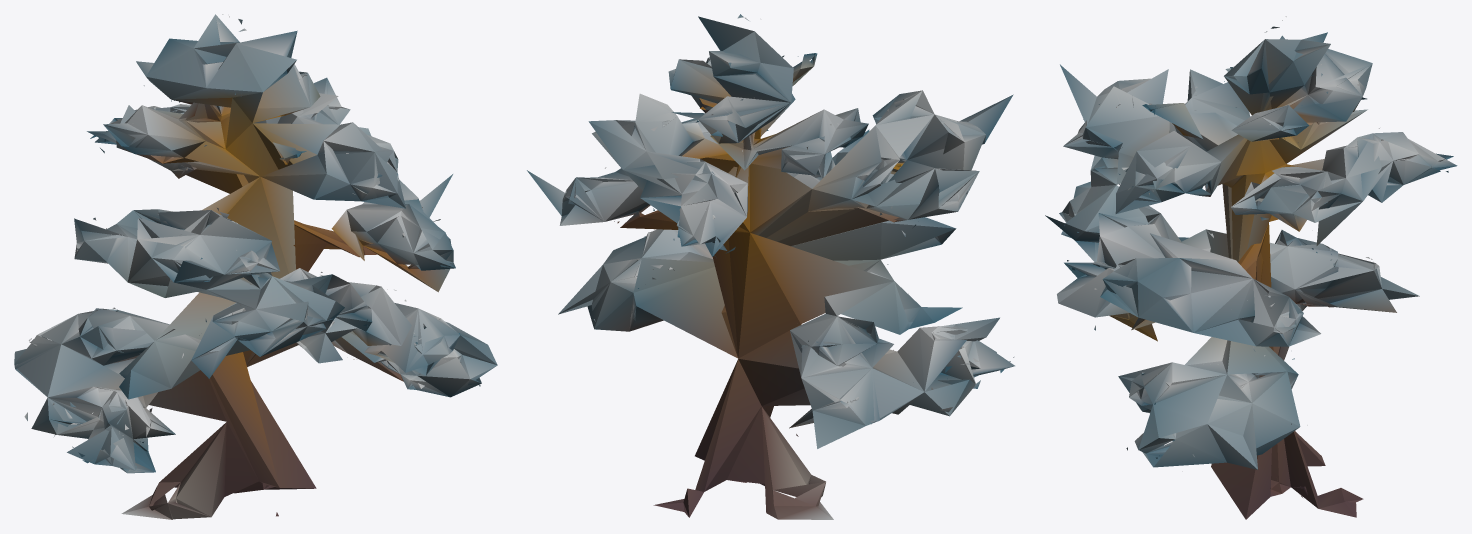
The model's file is pine_lod.glb.
3 views of the same model, side by side, from view 1: azimuth 30°, elevation 25°; view 2: azimuth 150°, elevation 25°; view 3: azimuth 270°, elevation 25° (orthographic).
Parts seen in each view (by area): view 1: pine_lod; view 2: pine_lod; view 3: pine_lod.
Boxes of the visible parts, x1=… form: pine_lod: x1=14, y1=14, x2=497, y2=519; pine_lod: x1=527, y1=14, x2=1014, y2=519; pine_lod: x1=1045, y1=16, x2=1457, y2=519.
Bounding box in the file's own units: 1.18 × 1.23 × 0.9731.
